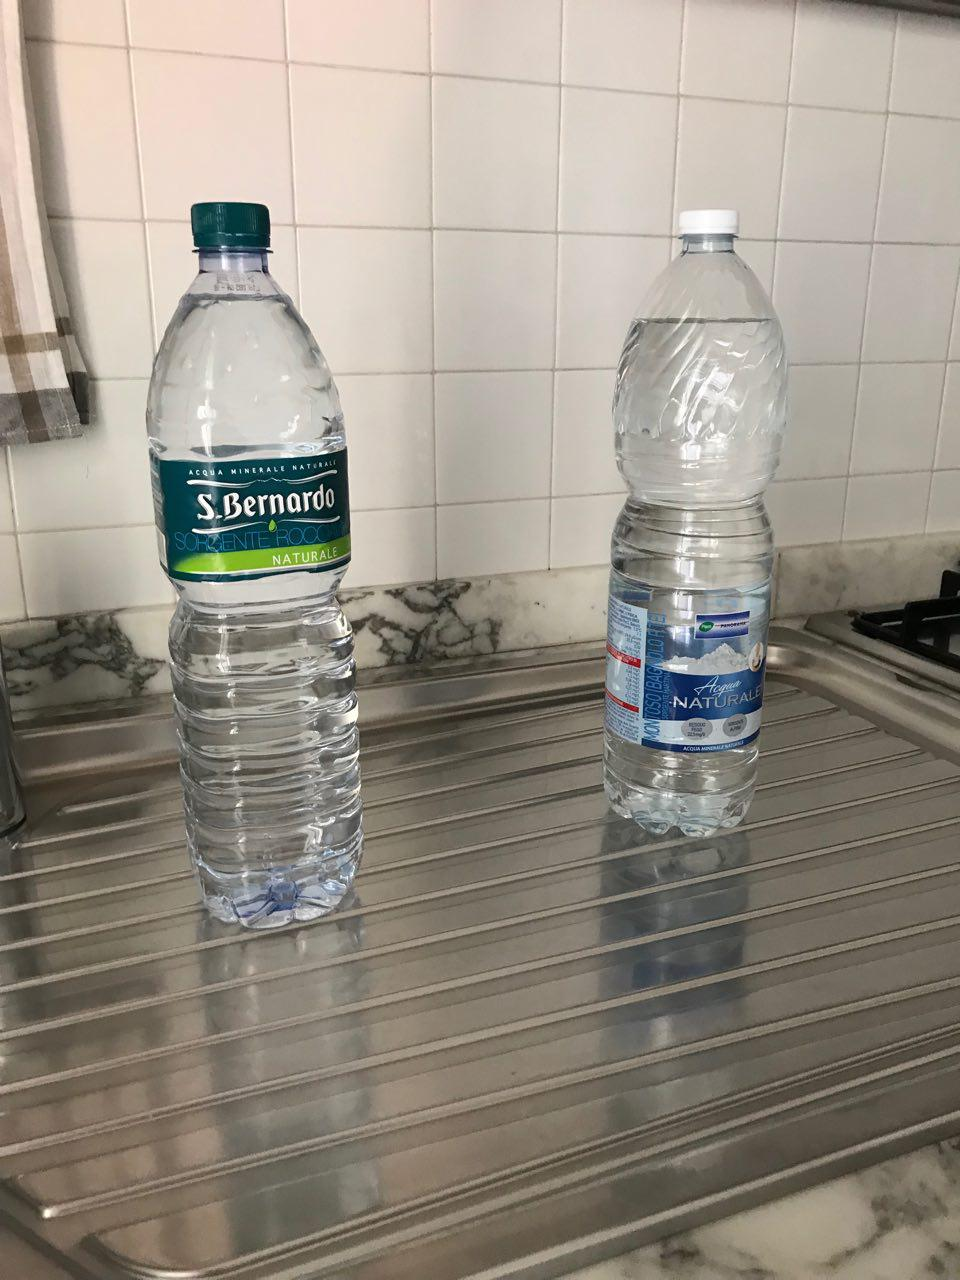san_bernardo: (145, 201, 364, 929)
